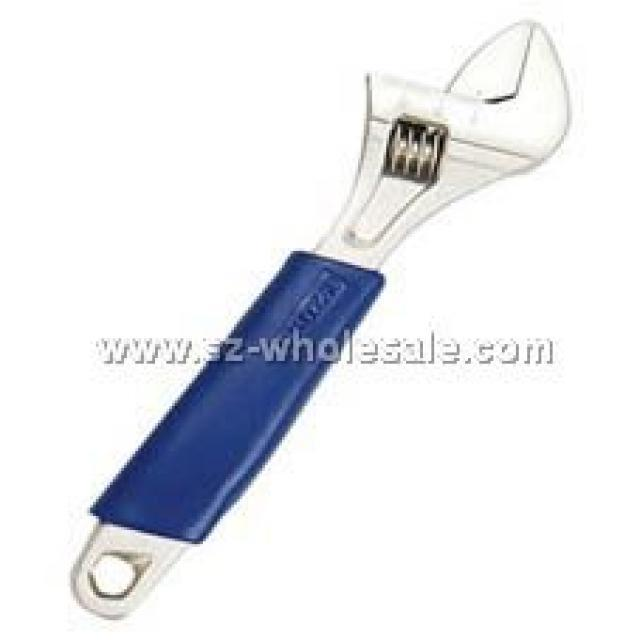wrench: (53, 7, 580, 616)
